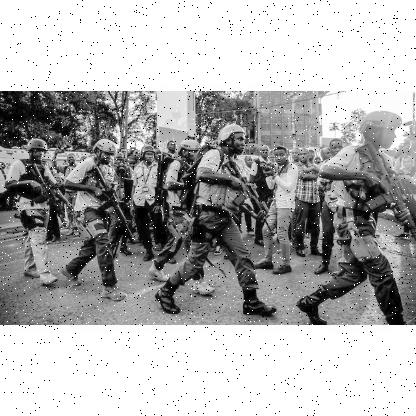gun: (352, 140, 414, 244), (220, 160, 276, 235), (84, 166, 134, 244), (21, 160, 69, 230)
